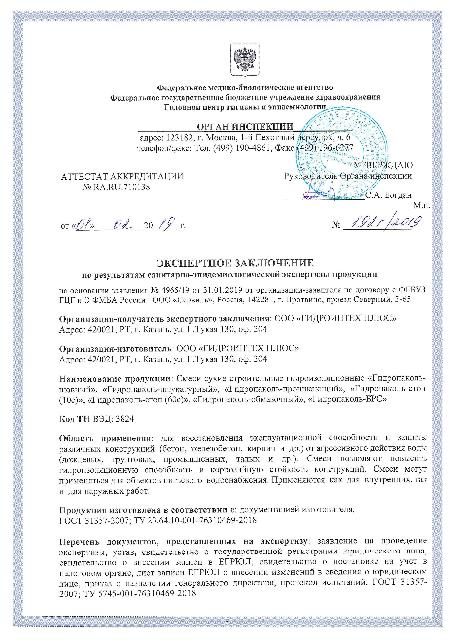stamp: (295, 107, 389, 199)
